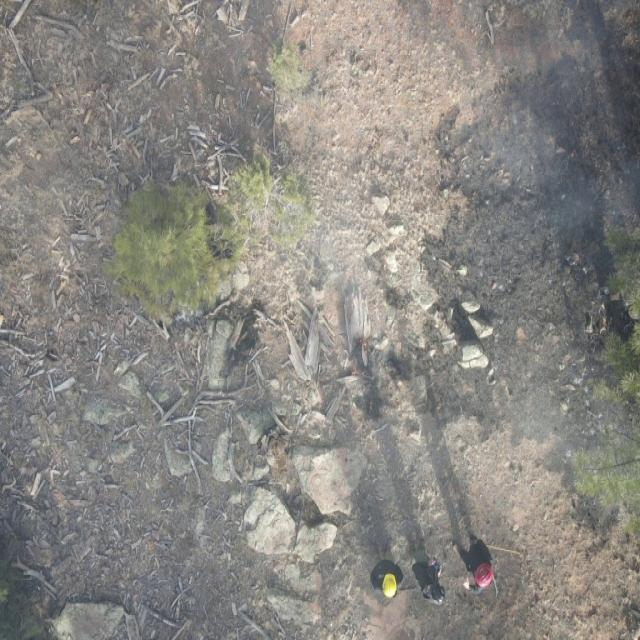fire: (351, 363, 366, 378), (358, 336, 369, 355), (366, 396, 376, 414)
smoke: (2, 0, 640, 640)
